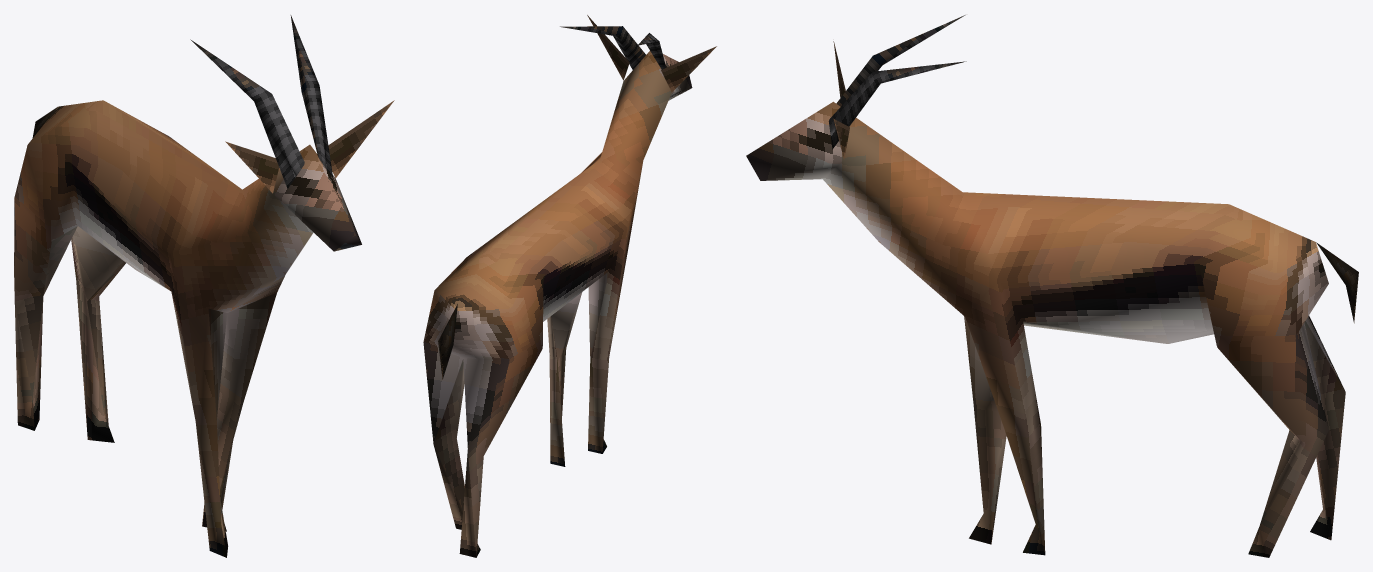
File: gazelle_base.glb
3 views of the same model, side by side, from view 1: azimuth 30°, elevation 25°; view 2: azimuth 150°, elevation 25°; view 3: azimuth 270°, elevation 25° (orthographic). The views are drawn at different scales.
Parts seen in each view (by area): view 1: MeshRoot; view 2: MeshRoot; view 3: MeshRoot.
Boxes of the visible parts, x1,y1,x2,y2 form: MeshRoot: [14, 15, 394, 557]; MeshRoot: [423, 15, 716, 557]; MeshRoot: [746, 15, 1358, 557].
Size of the model in its own units: 0.6133 by 1.83 by 2.
1 material, 1 textured.
